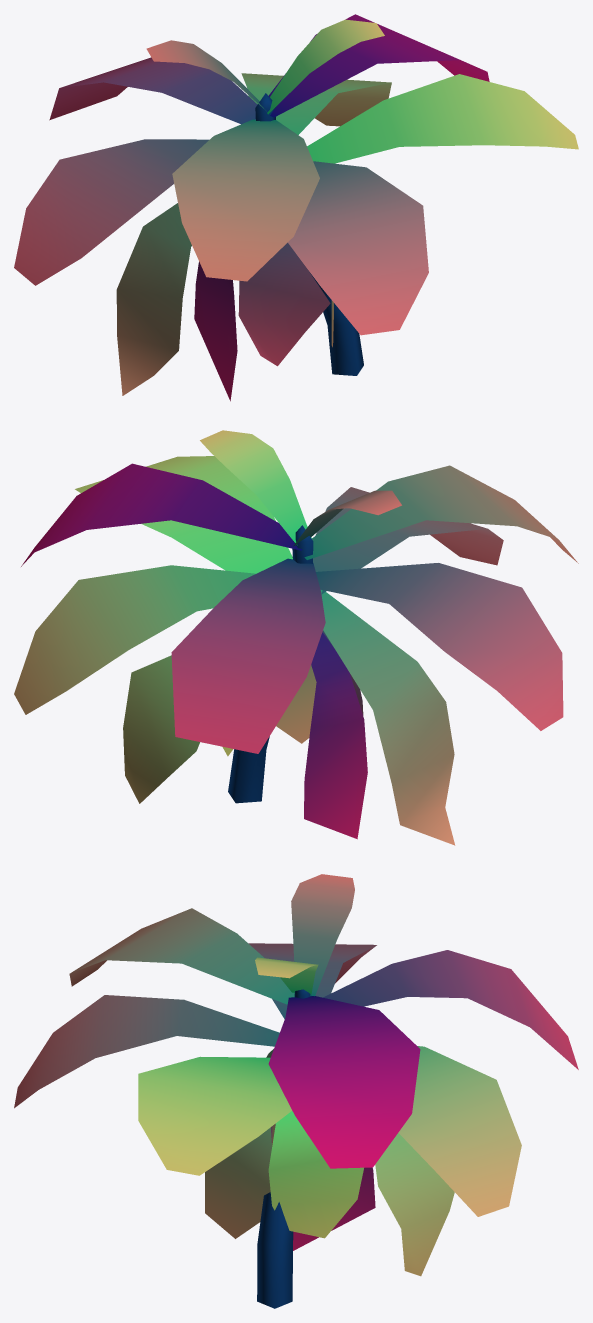
The model's file is sfcnq_VarA_LOD1.fbx.
3 views of the same model, one above another, from view 1: azimuth 30°, elevation 25°; view 2: azimuth 150°, elevation 25°; view 3: azimuth 270°, elevation 25° (orthographic). The views are drawn at different scales.
Visible parts, largest first — view 1: _df52_VarA_LOD2; view 2: _df52_VarA_LOD2; view 3: _df52_VarA_LOD2.
Part boxes in pixels (box(x1,y1,x2,y2)): _df52_VarA_LOD2: box(14, 14, 578, 401); _df52_VarA_LOD2: box(14, 430, 578, 845); _df52_VarA_LOD2: box(14, 874, 578, 1308).
Bounding box in the file's own units: 37.43 × 24.72 × 35.96.
